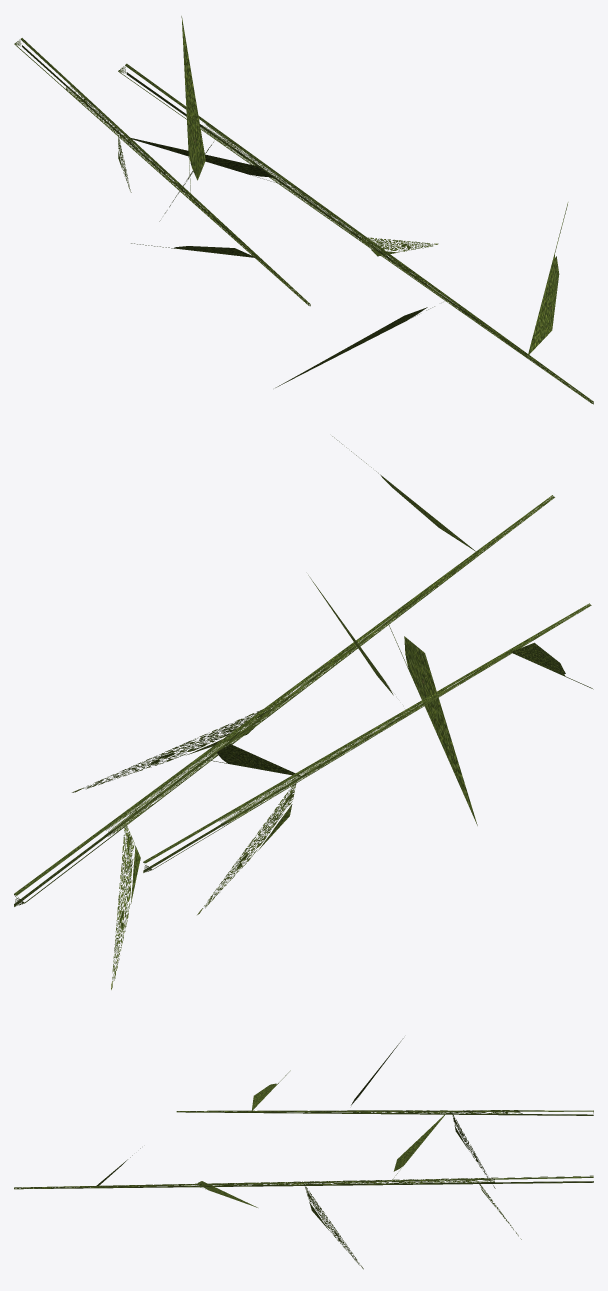
File: keep-i0-model.obj
3 views of the same model, one above another, from view 1: azimuth 30°, elevation 25°; view 2: azimuth 150°, elevation 25°; view 3: azimuth 270°, elevation 25° (orthographic). The views are drawn at different scales.
Bounding box in the file's own units: 0.8686 × 0.6589 × 1.8.
